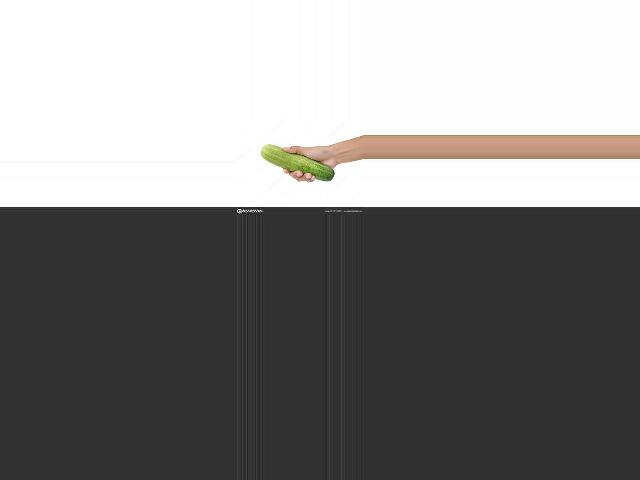cucumber: (261, 144, 335, 181)
